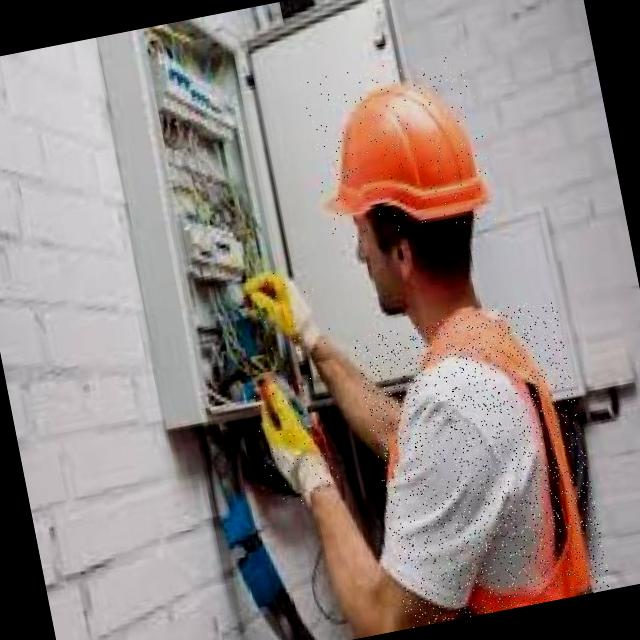gloves: (220, 236, 374, 523)
helmet: (300, 49, 499, 252)
vest: (352, 298, 612, 629)
